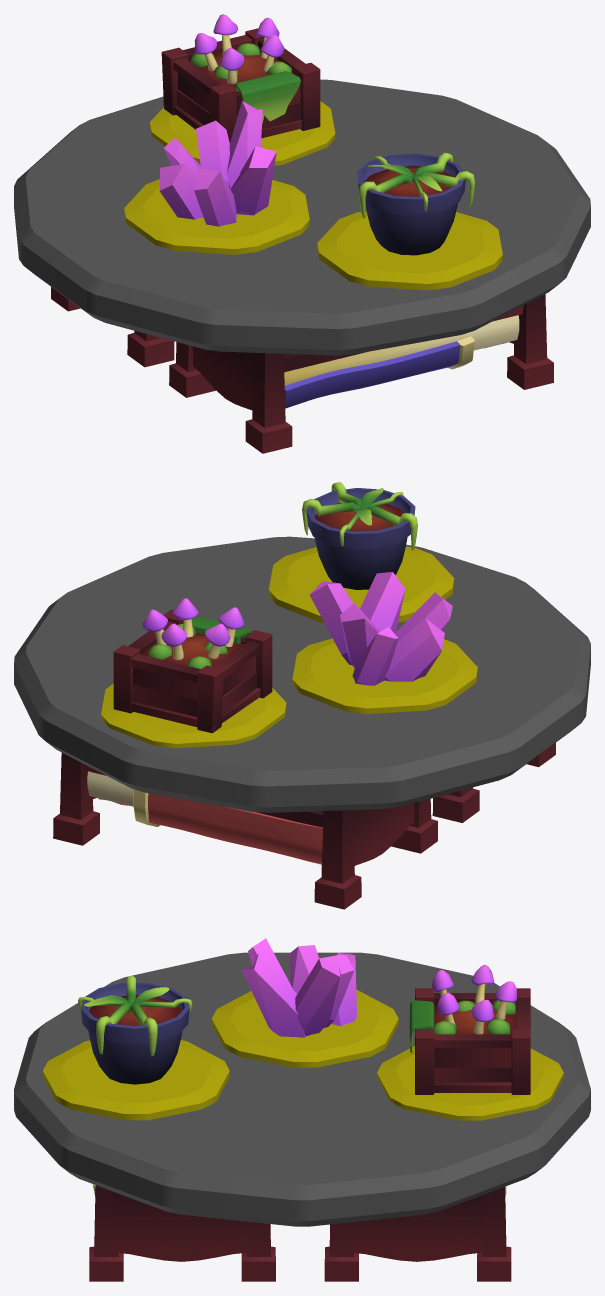
File: fliper_03.fbx
3 renders of one model, top to bottom at view 1: azimuth 30°, elevation 25°; view 2: azimuth 150°, elevation 25°; view 3: azimuth 270°, elevation 25°, orthographic.
Parts seen in each view (by area): view 1: base, Bed_blue, mushroom_box, crystal_bed, flower_pot, Bed_red; view 2: base, Bed_red, mushroom_box, crystal_bed, flower_pot, Bed_blue; view 3: base, mushroom_box, Bed_blue, Bed_red, flower_pot, crystal_bed.
Part boxes in pixels (x1,y1,x2,y2): base: (14,79,590,355); Bed_blue: (169,294,553,453); mushroom_box: (161,14,320,143); crystal_bed: (159,101,276,226); flower_pot: (357,152,475,255); Bed_red: (51,287,174,367); base: (14,536,590,812); Bed_red: (53,753,437,909); mushroom_box: (113,598,272,733); crystal_bed: (309,572,452,685); flower_pot: (302,482,417,589); Bed_blue: (432,743,555,822); base: (14,952,590,1226); mushroom_box: (409,965,530,1094); Bed_blue: (89,1184,275,1281); Bed_red: (324,1186,511,1281); flower_pot: (78,976,192,1084); crystal_bed: (241,938,356,1037).
Size of the model in its own units: 6.25 by 2.94 by 6.29.
